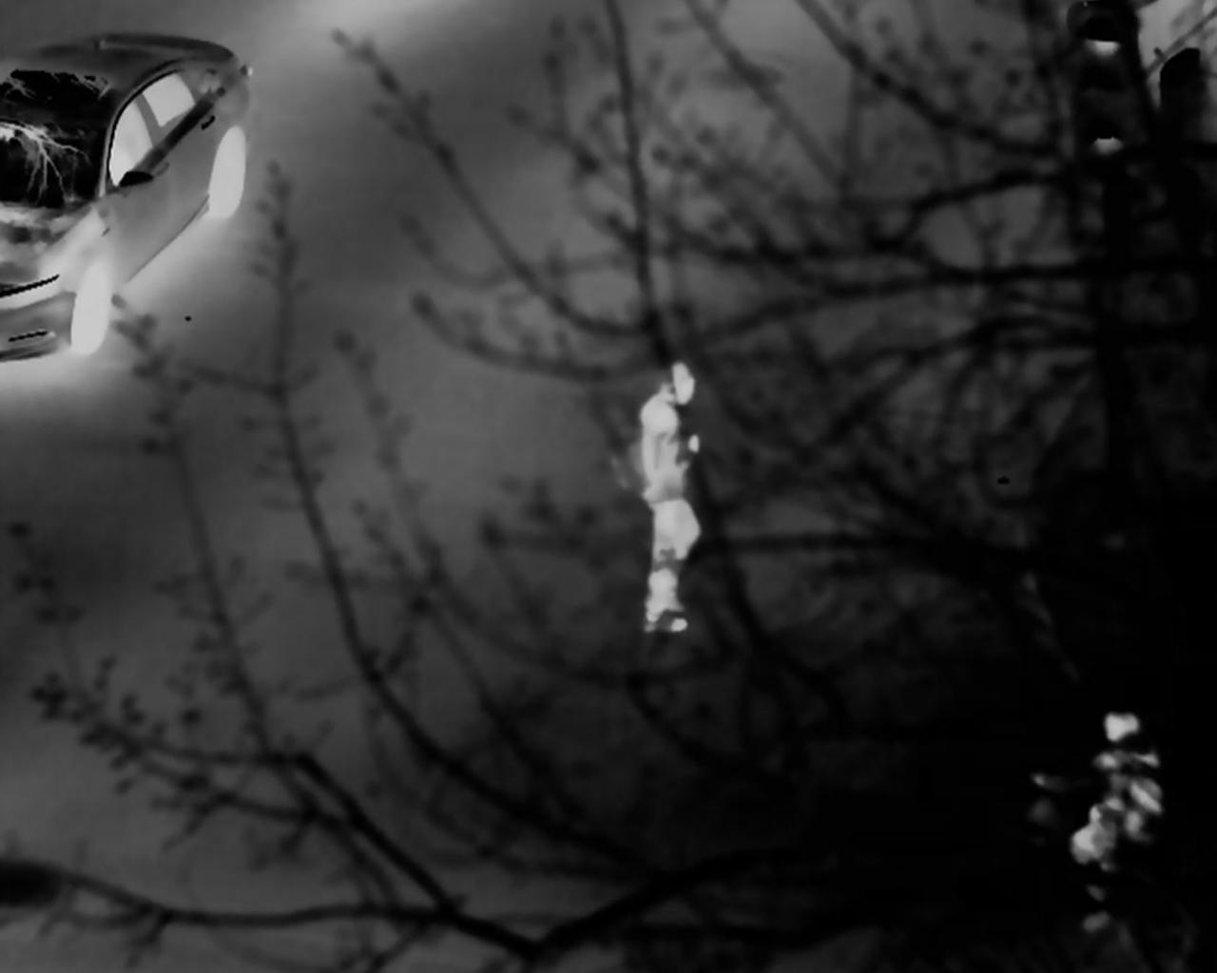person: (629, 359, 703, 640), (1072, 695, 1156, 895)
